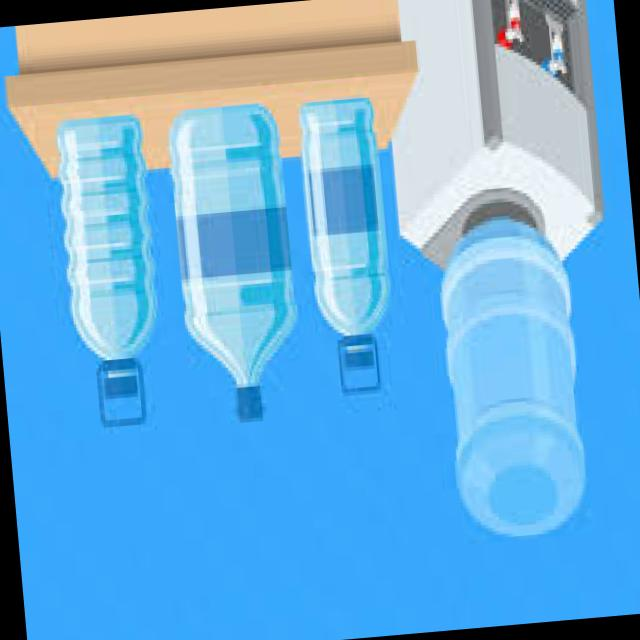Galon: (406, 183, 640, 551), (169, 100, 307, 466), (43, 112, 178, 460), (296, 100, 402, 420)
